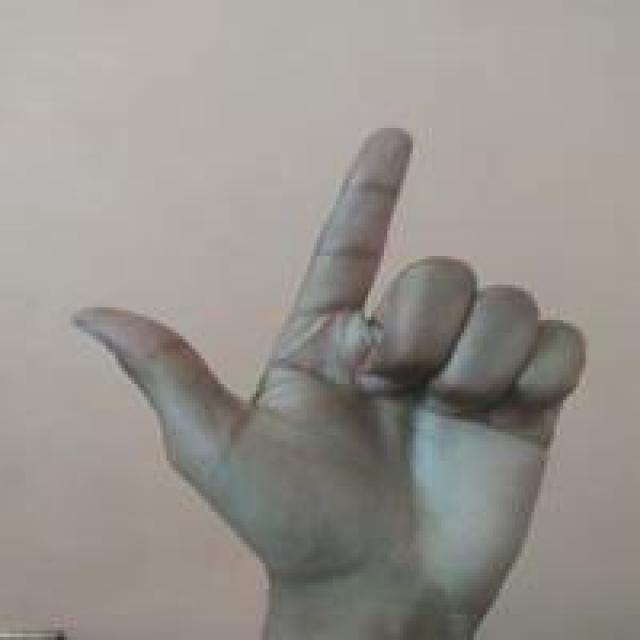L: (69, 123, 584, 600)
